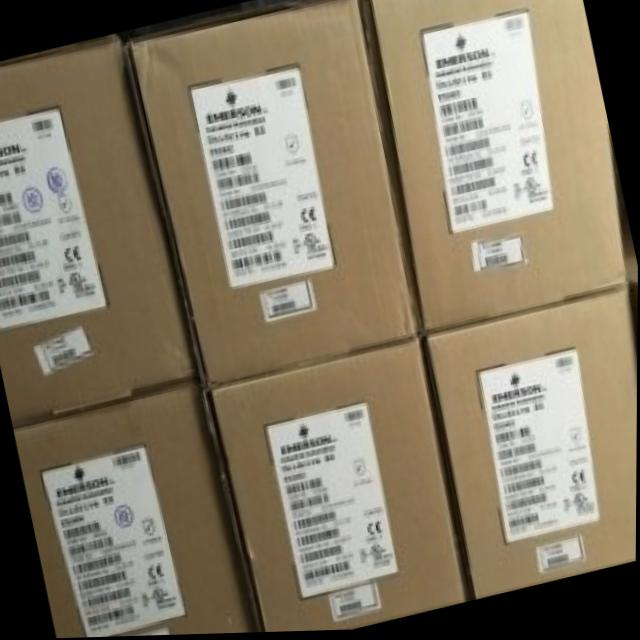box: (128, 0, 421, 392), (370, 0, 627, 339), (0, 39, 199, 424), (209, 341, 470, 634), (426, 288, 638, 600), (13, 382, 255, 639)
